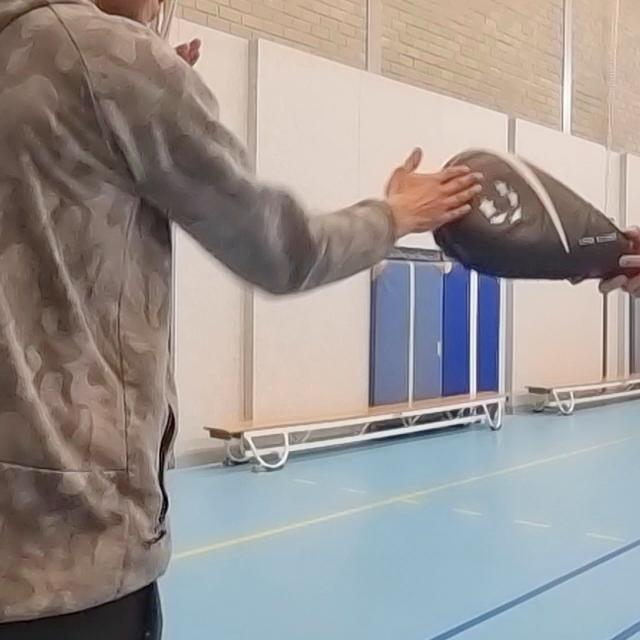paddle: (431, 143, 640, 287)
